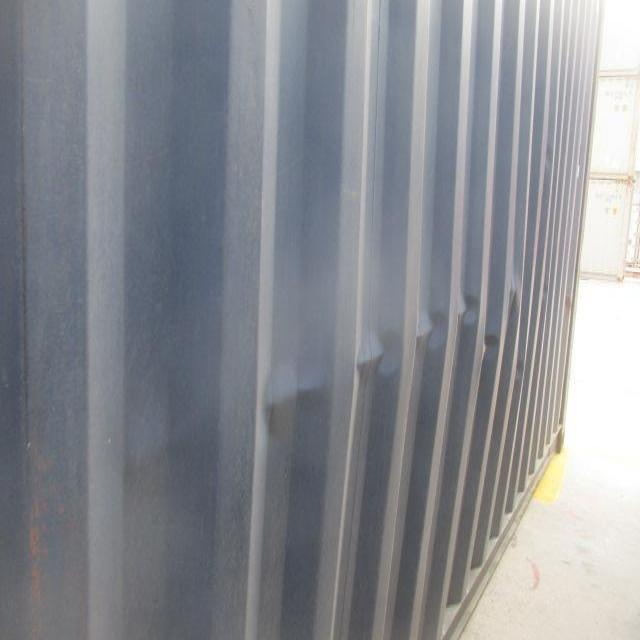dent: (271, 278, 544, 443)
